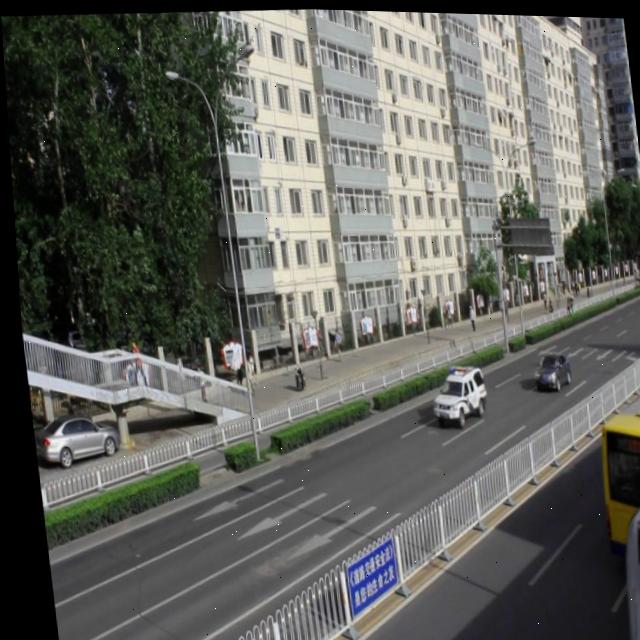car: (423, 360, 482, 421), (527, 346, 566, 386)
van: (586, 368, 640, 546), (599, 457, 640, 640)
